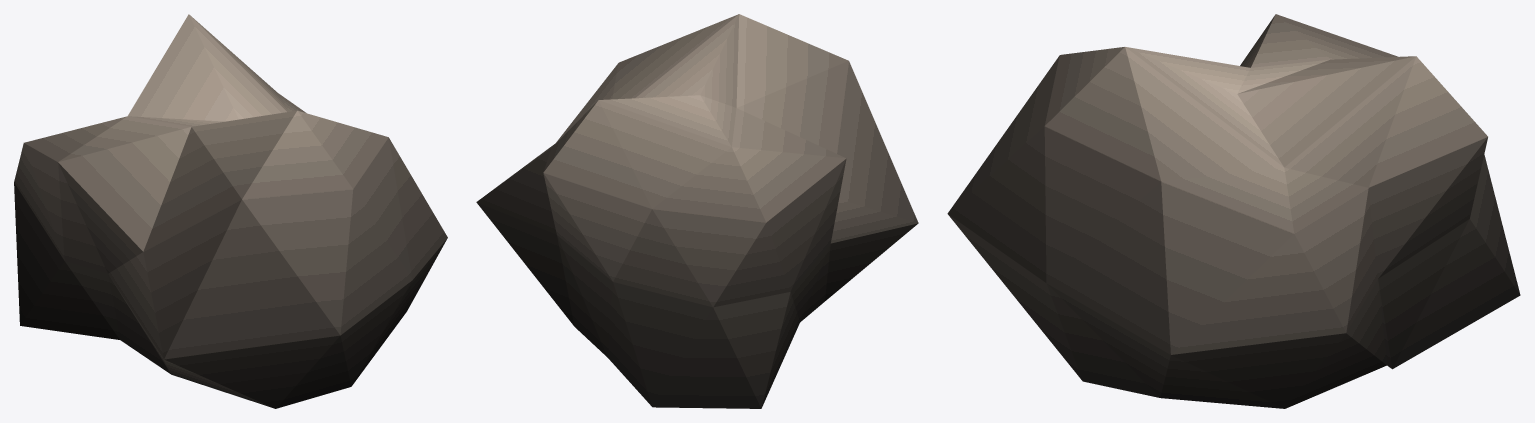
The model's file is rock.glb.
The picture shows the model from 3 angles, left to right: view 1: azimuth 30°, elevation 25°; view 2: azimuth 150°, elevation 25°; view 3: azimuth 270°, elevation 25°; orthographic projection. The views are drawn at different scales.
Visible parts, largest first — view 1: Icosphere; view 2: Icosphere; view 3: Icosphere.
Boxes of the visible parts, x1,y1,x2,y2 form: Icosphere: (14,14,447,408); Icosphere: (476,14,918,408); Icosphere: (947,14,1520,408).
Bounding box in the file's own units: 1.55 × 1.16 × 1.91.
Materials: 1 (1 with a texture image).
